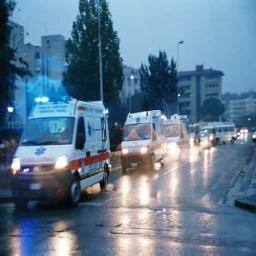Ambulance: (11, 98, 109, 207), (121, 110, 164, 171), (162, 114, 189, 156)
